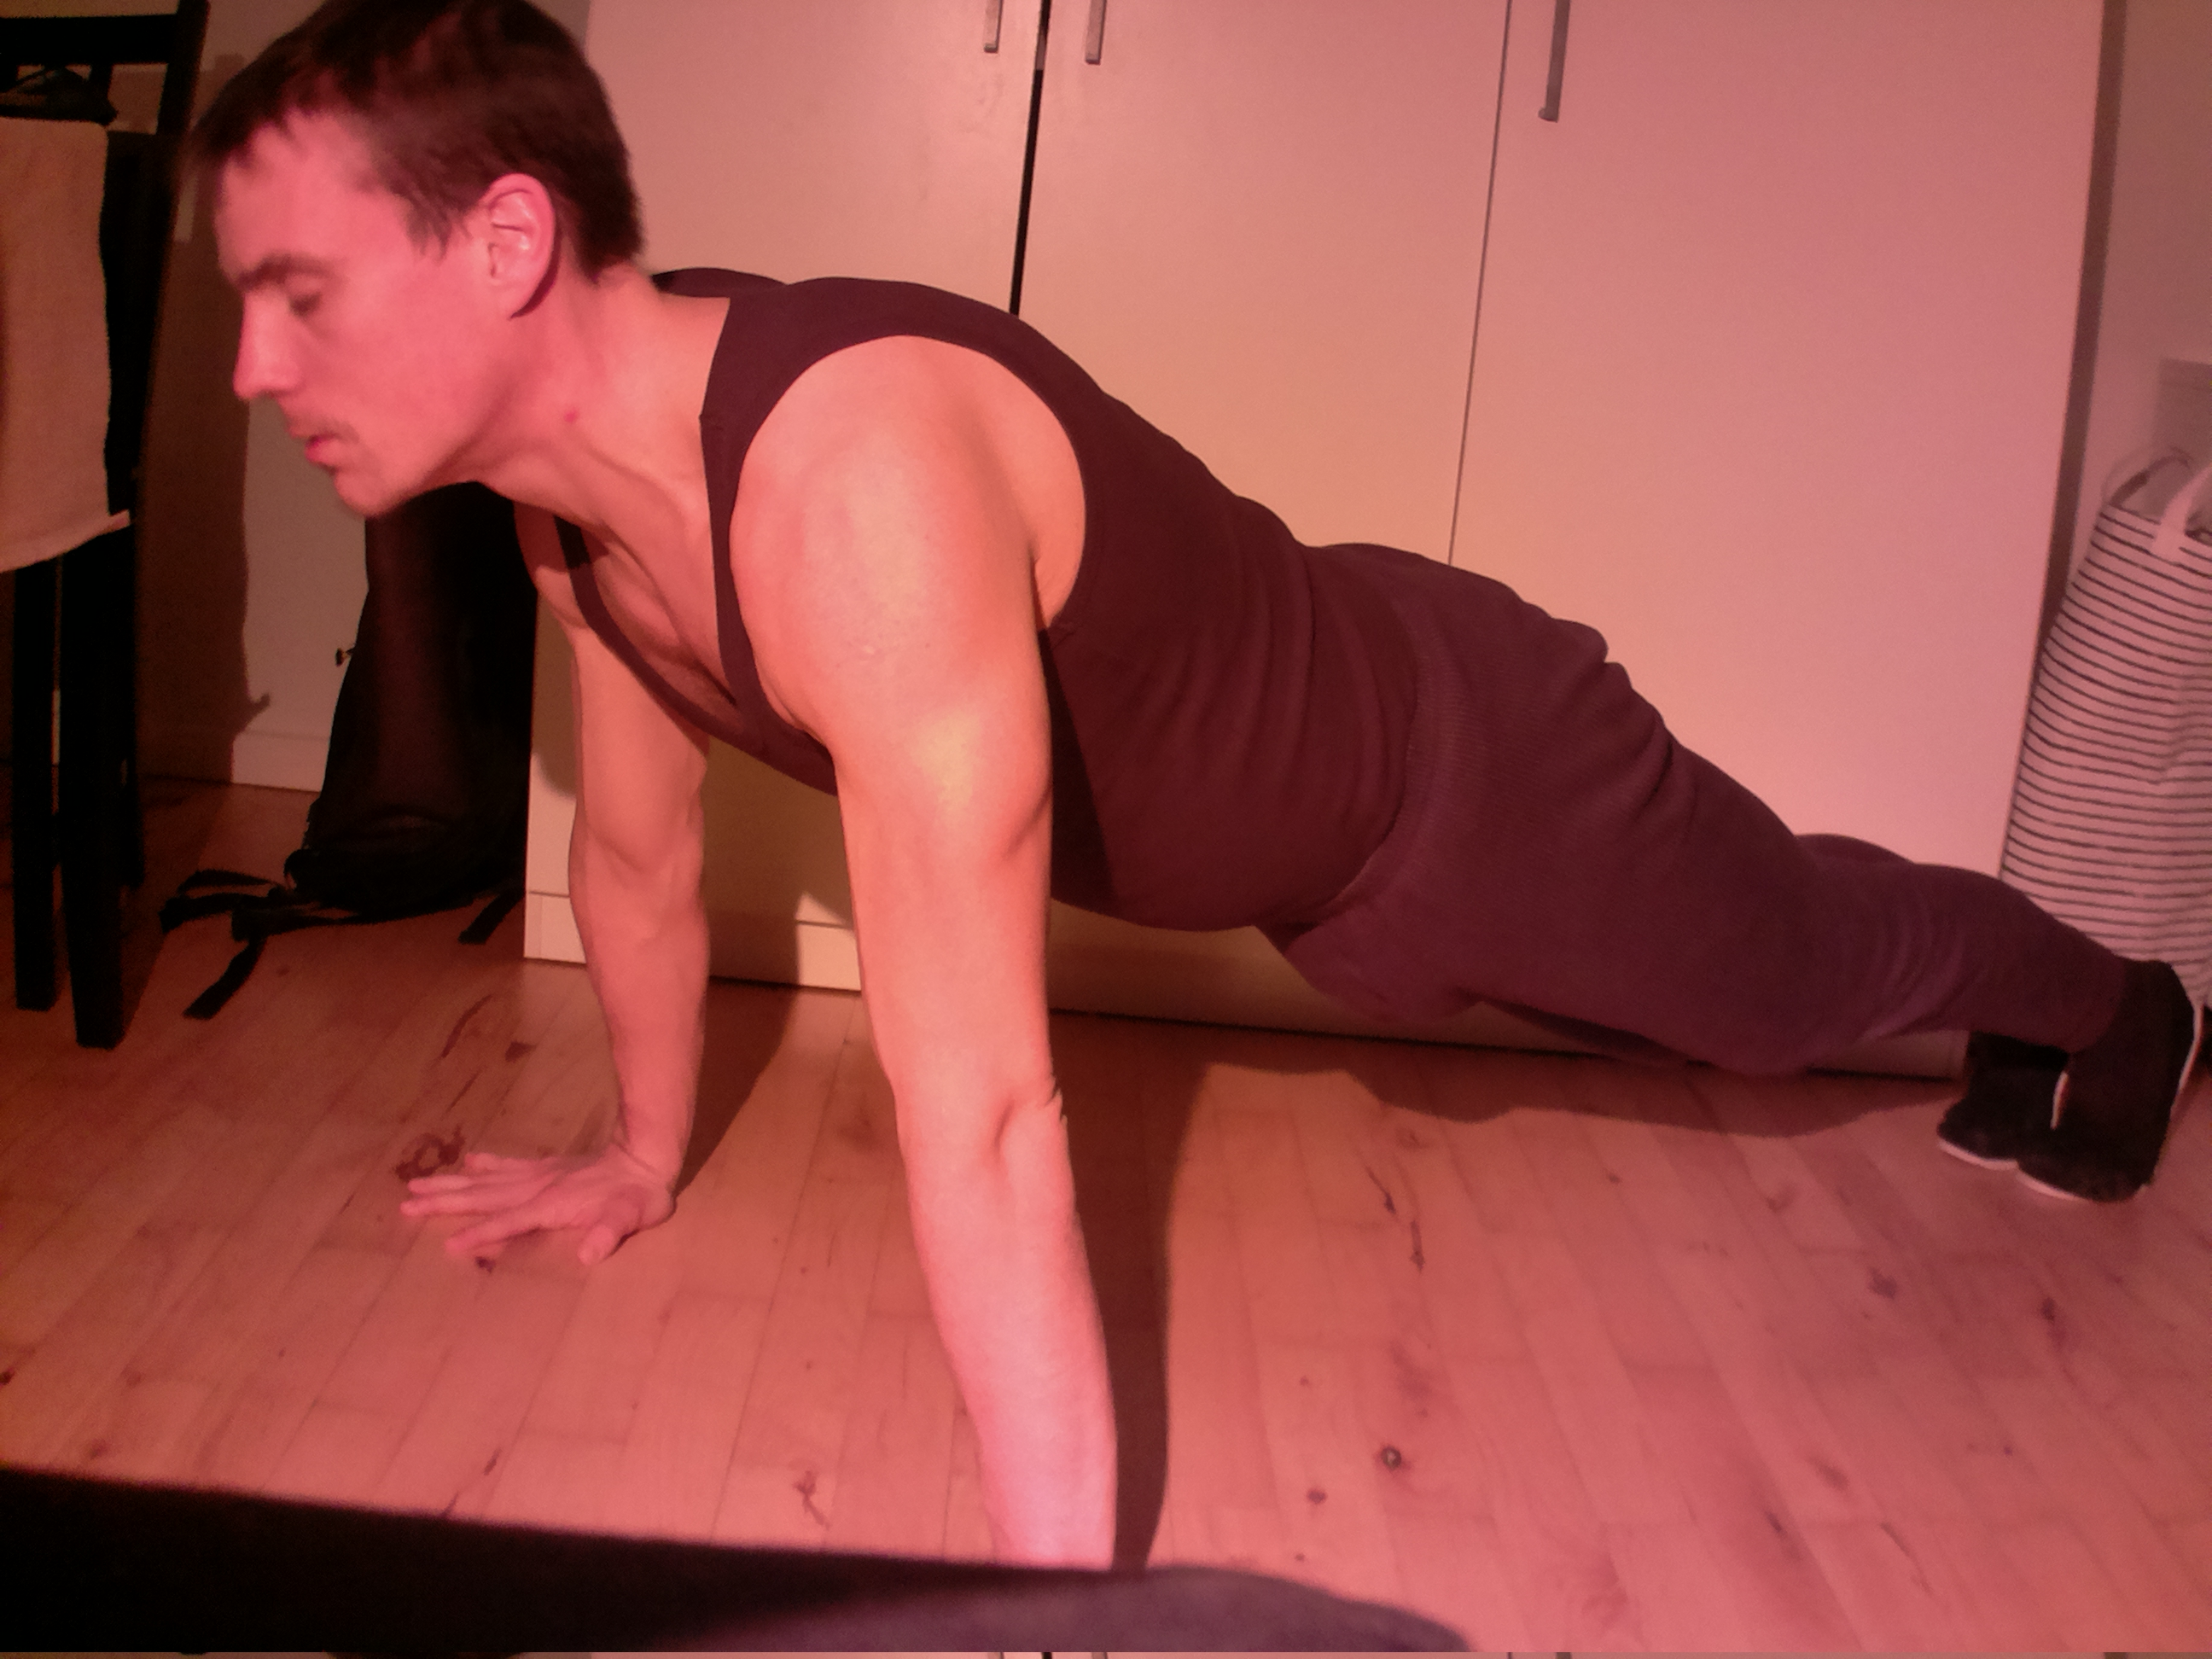CONAN: (167, 0, 1482, 1629)
